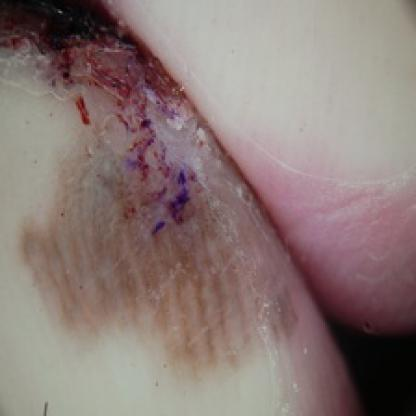malignant: (0, 0, 255, 255)
